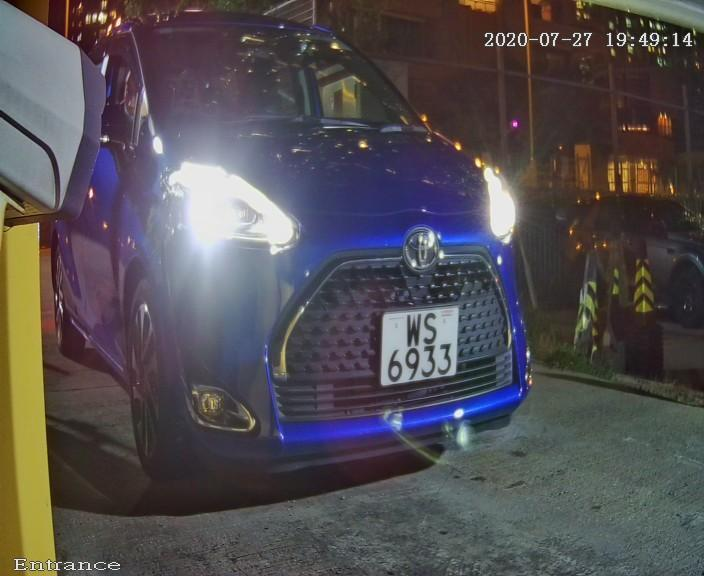privatecar: (48, 8, 569, 533)
